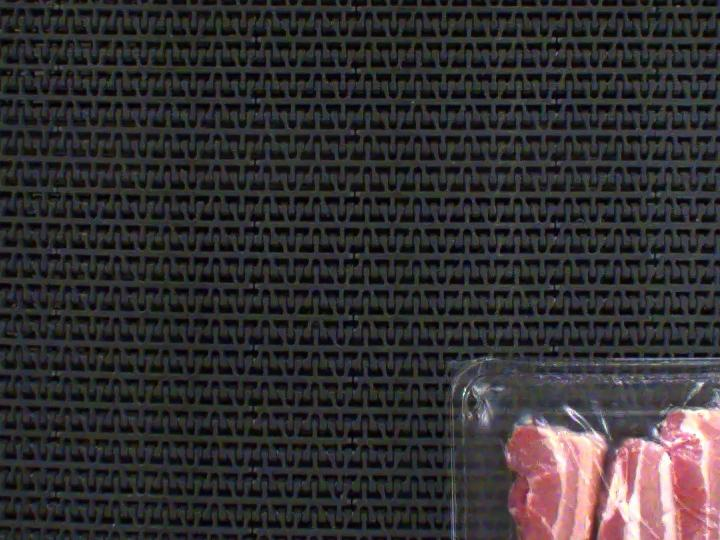unsealed: (463, 358, 720, 540)
